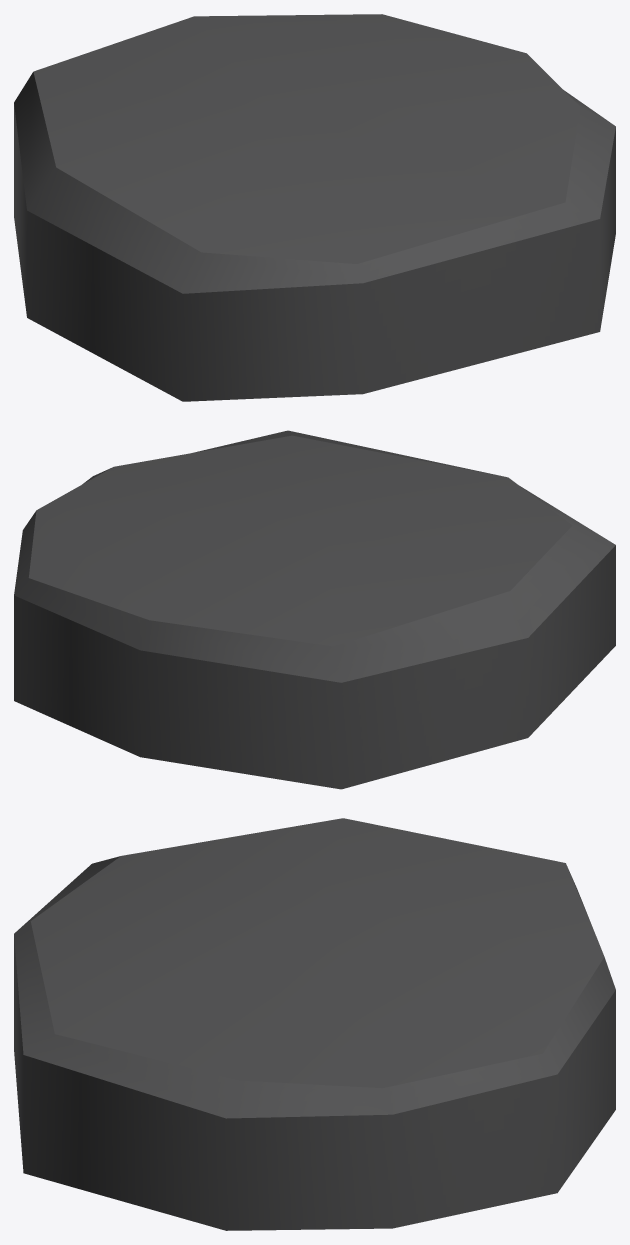
The model's file is Stone_G.fbx.
The picture shows the model from 3 angles, top to bottom: view 1: azimuth 30°, elevation 25°; view 2: azimuth 150°, elevation 25°; view 3: azimuth 270°, elevation 25°; orthographic projection. The views are drawn at different scales.
Visible parts, largest first — view 1: Stone_G; view 2: Stone_G; view 3: Stone_G.
Boxes of the visible parts, x1=… form: Stone_G: x1=14, y1=14, x2=615, y2=401; Stone_G: x1=14, y1=430, x2=615, y2=789; Stone_G: x1=14, y1=818, x2=615, y2=1230.
Size of the model in its own units: 194 by 57.47 by 183.
